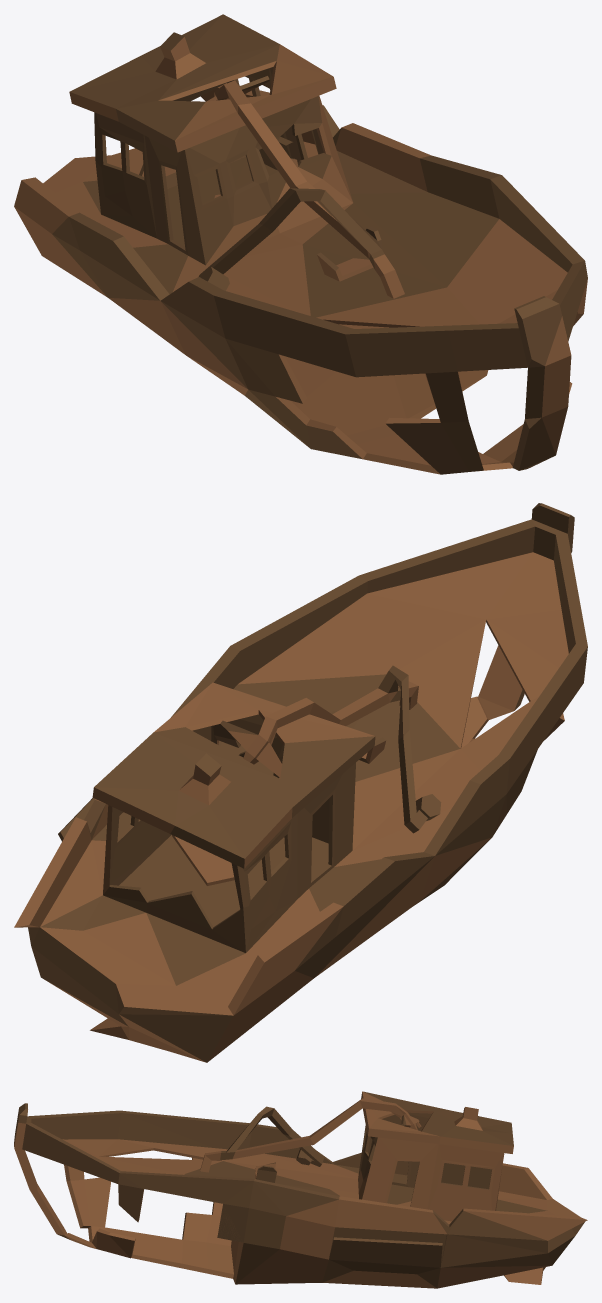
The model's file is boat-fishing-apocalypse.fbx.
3 renders of one model, top to bottom at view 1: azimuth 30°, elevation 25°; view 2: azimuth 150°, elevation 25°; view 3: azimuth 270°, elevation 25°, orthographic. The views are drawn at different scales.
Visible parts, largest first — view 1: boat-fishing-apocalypse; view 2: boat-fishing-apocalypse; view 3: boat-fishing-apocalypse.
Part boxes in pixels (x1,y1,x2,y2): boat-fishing-apocalypse: (14,14,587,474); boat-fishing-apocalypse: (14,503,587,1062); boat-fishing-apocalypse: (14,1091,587,1288).
Size of the model in its own units: 8.66 by 6.59 by 21.29.
